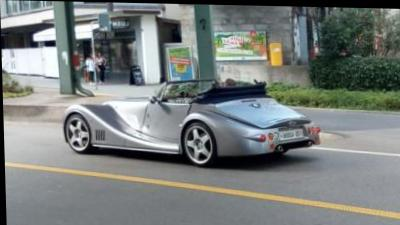License_Plate: (280, 127, 303, 141)
